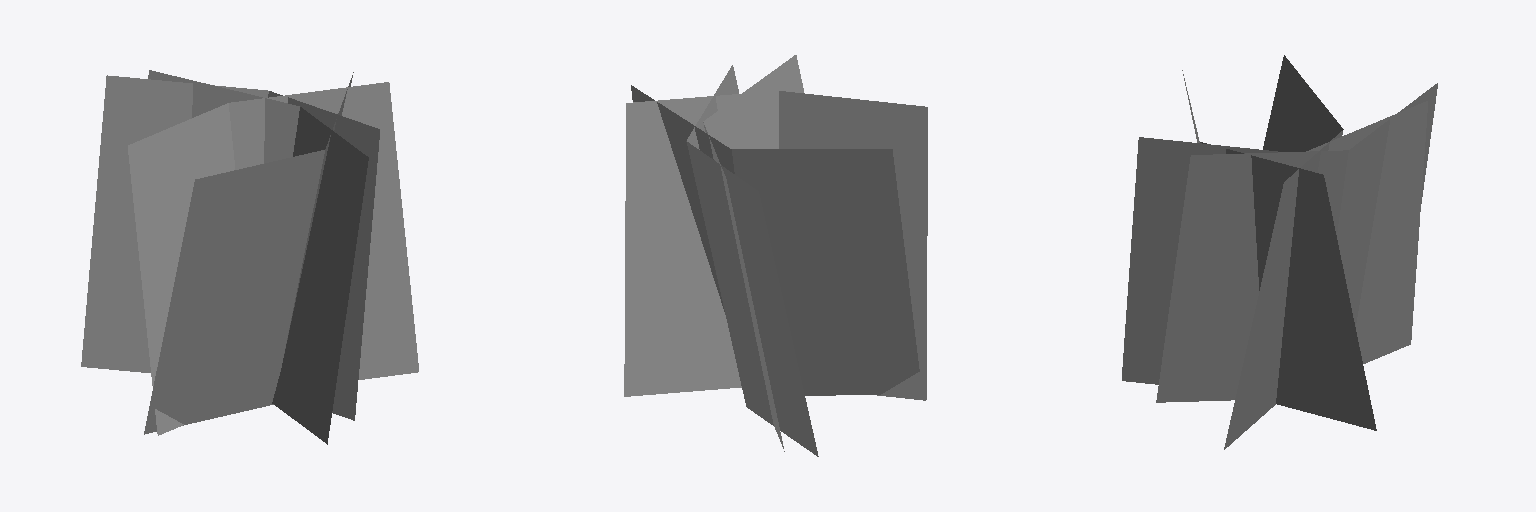
The model's file is BeachGrass_blend.obj.
3 renders of one model, left to right at view 1: azimuth 30°, elevation 25°; view 2: azimuth 150°, elevation 25°; view 3: azimuth 270°, elevation 25°, orthographic.
Parts seen in each view (by area): view 1: BeachGrassOne200; view 2: BeachGrassOne200; view 3: BeachGrassOne200.
Part boxes in pixels (left/top/right/bottom): BeachGrassOne200: left=81, top=70, right=418, bottom=444; BeachGrassOne200: left=624, top=55, right=927, bottom=456; BeachGrassOne200: left=1122, top=55, right=1437, bottom=449.
Bounding box in the file's own units: 0.2585 × 0.255 × 0.2622.